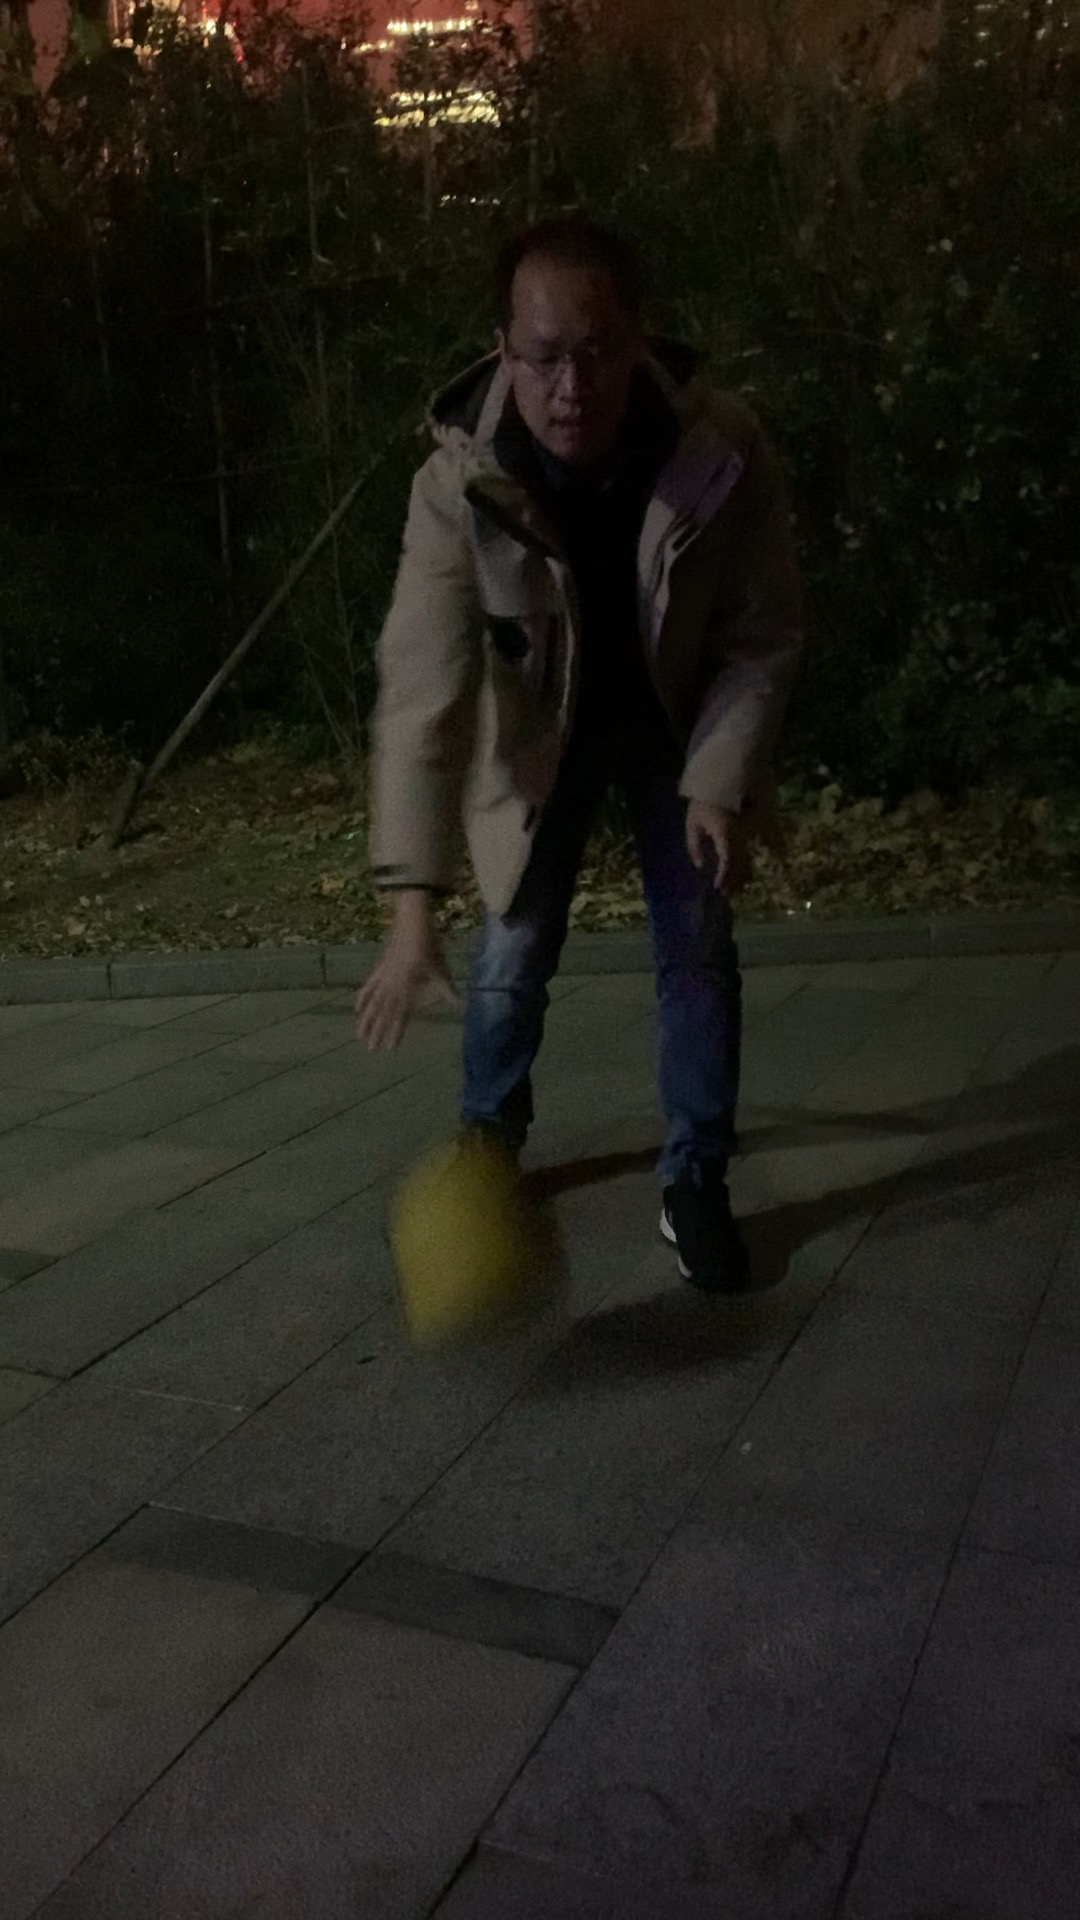ball: (378, 1147, 585, 1337)
